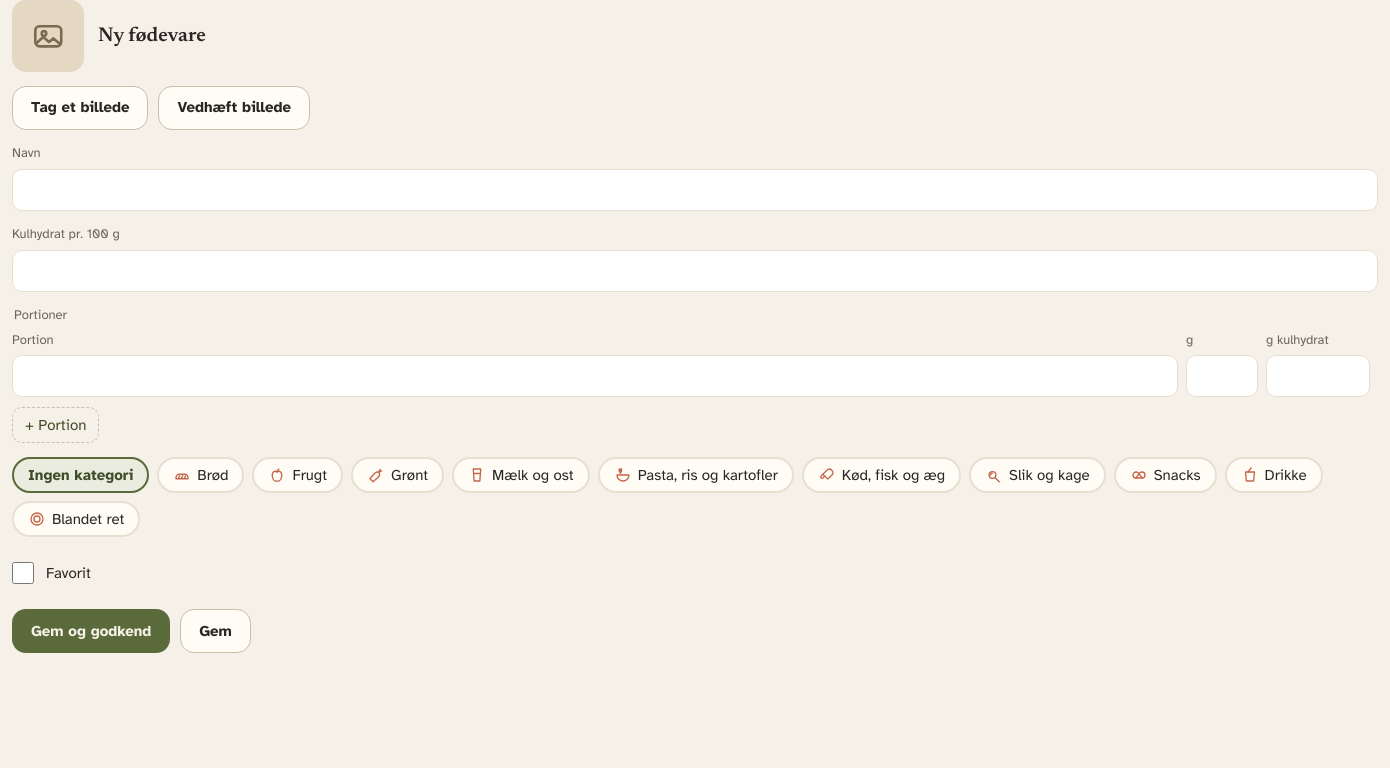
Test: FoodForm (the edit panel's fields) › says a portion holds at most 1000 g of carbohydrate instead of 'Kunne ikke gemme' (issue 219)
This screenshot has width=1390, height=768.
Type "Eksempelkage" into the field labelled "Navn" at (695, 190), box [12, 169, 1378, 211]
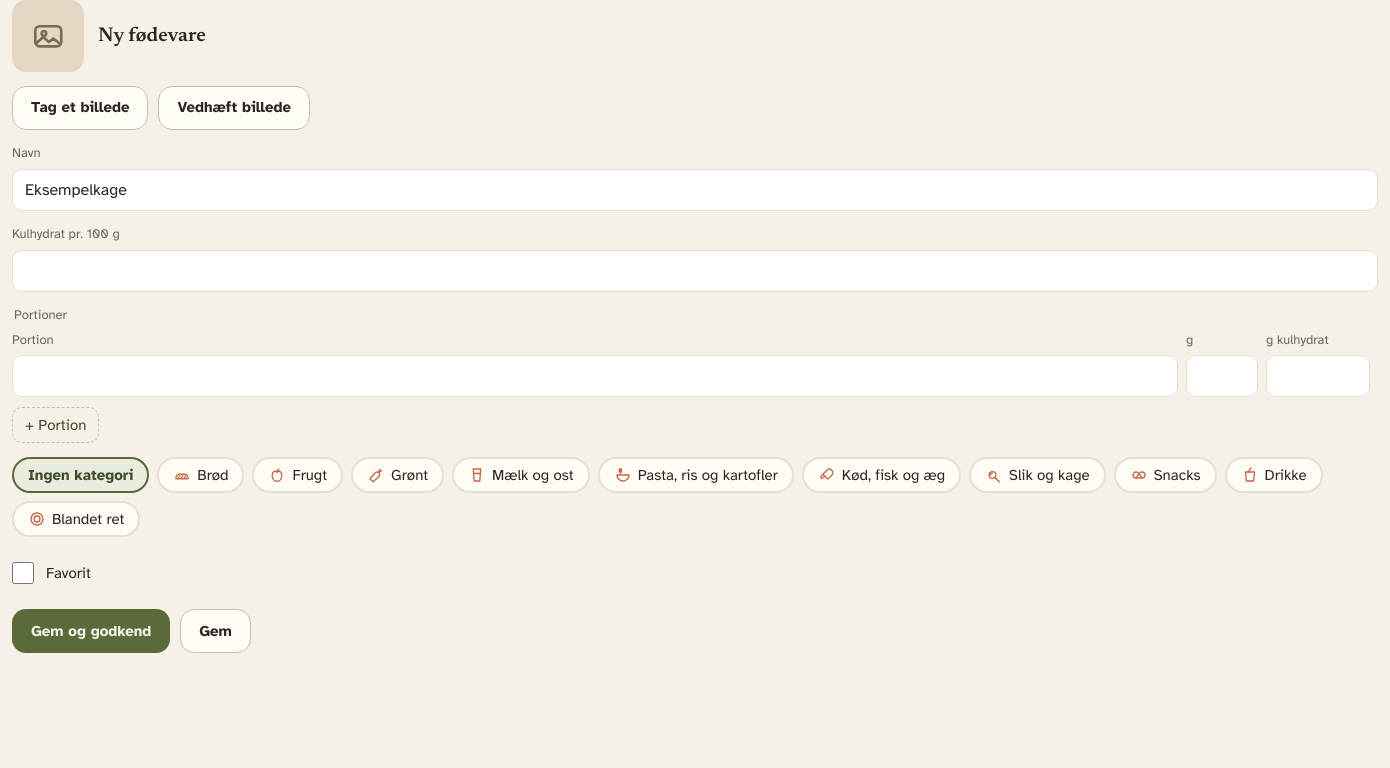
Type "50" into the field labelled "Kulhydrat pr. 100 g" at (695, 271), box [12, 250, 1378, 292]
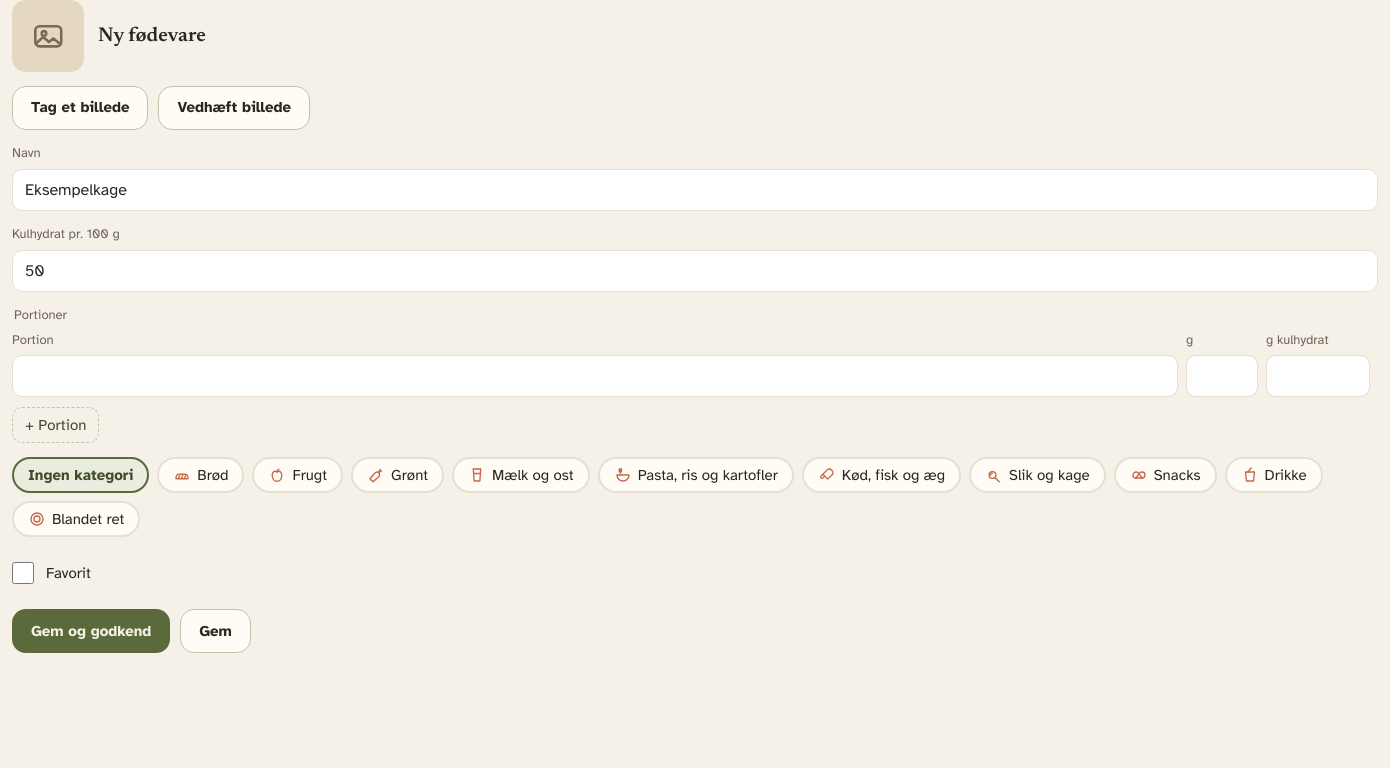
Type "Hele kagen" into the field labelled "Portion" at (595, 376), box [12, 355, 1178, 397]
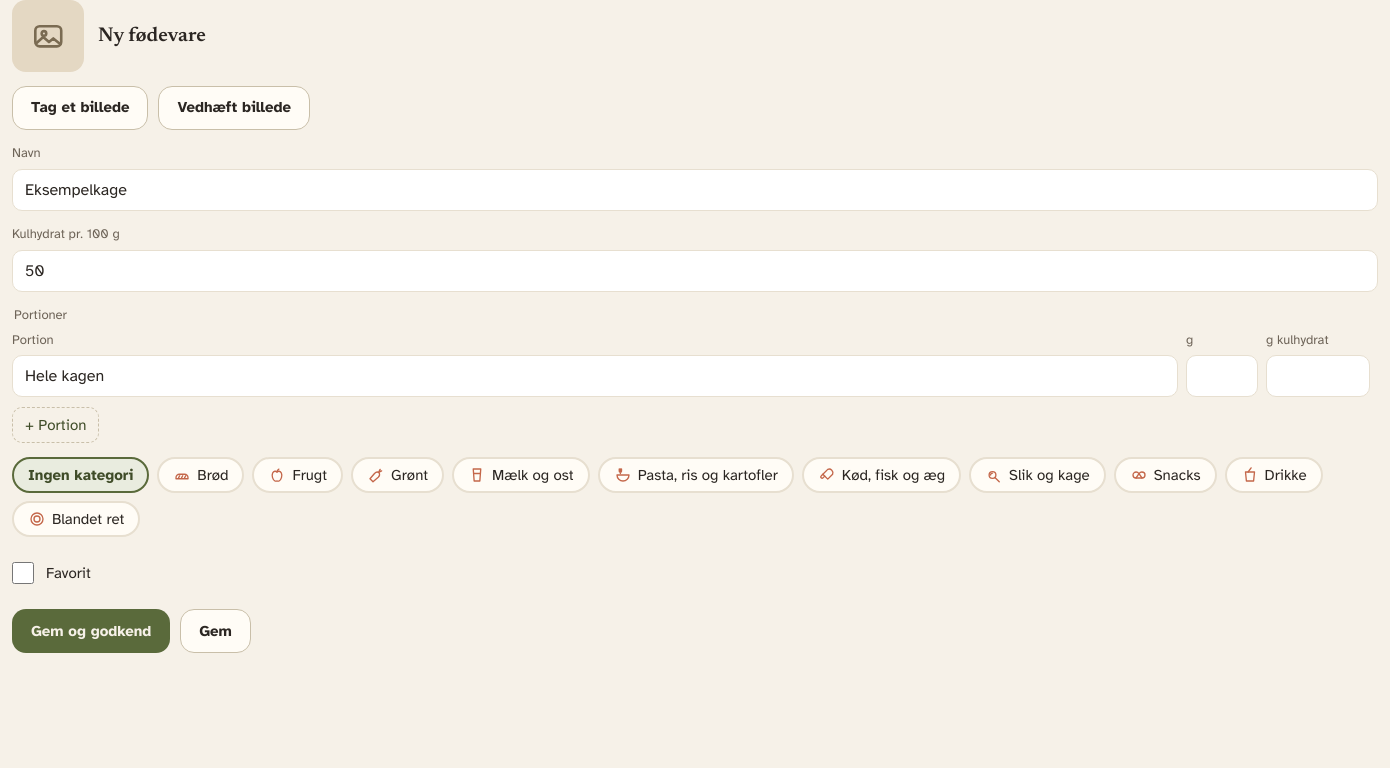
Type "2500" into the field labelled "g" at (1222, 376), box [1186, 355, 1258, 397]
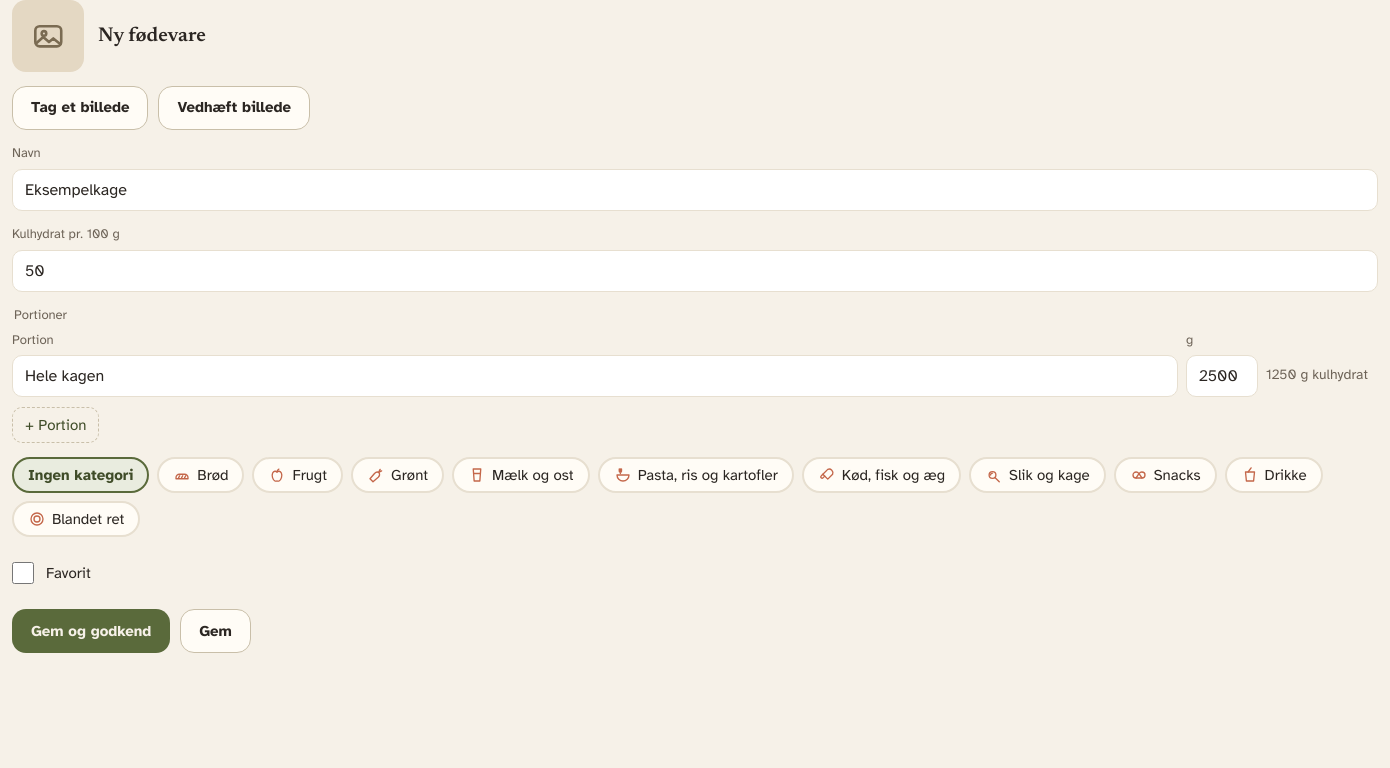
Click the button "Gem" at (216, 631), box [180, 609, 251, 653]
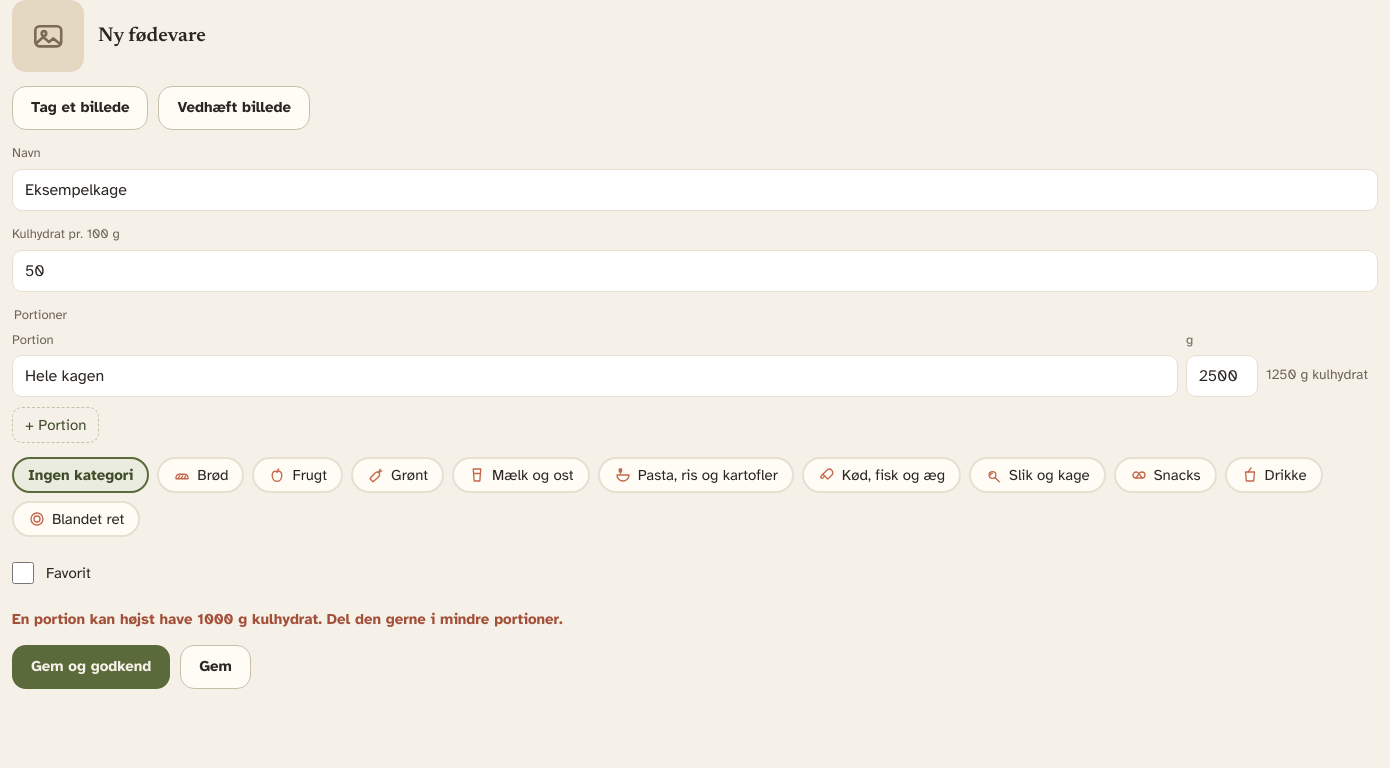
Check: the message reads "En portion kan højst have 1000 g kulhydrat. Del den gerne i mindre portioner.", box [12, 610, 563, 628]
